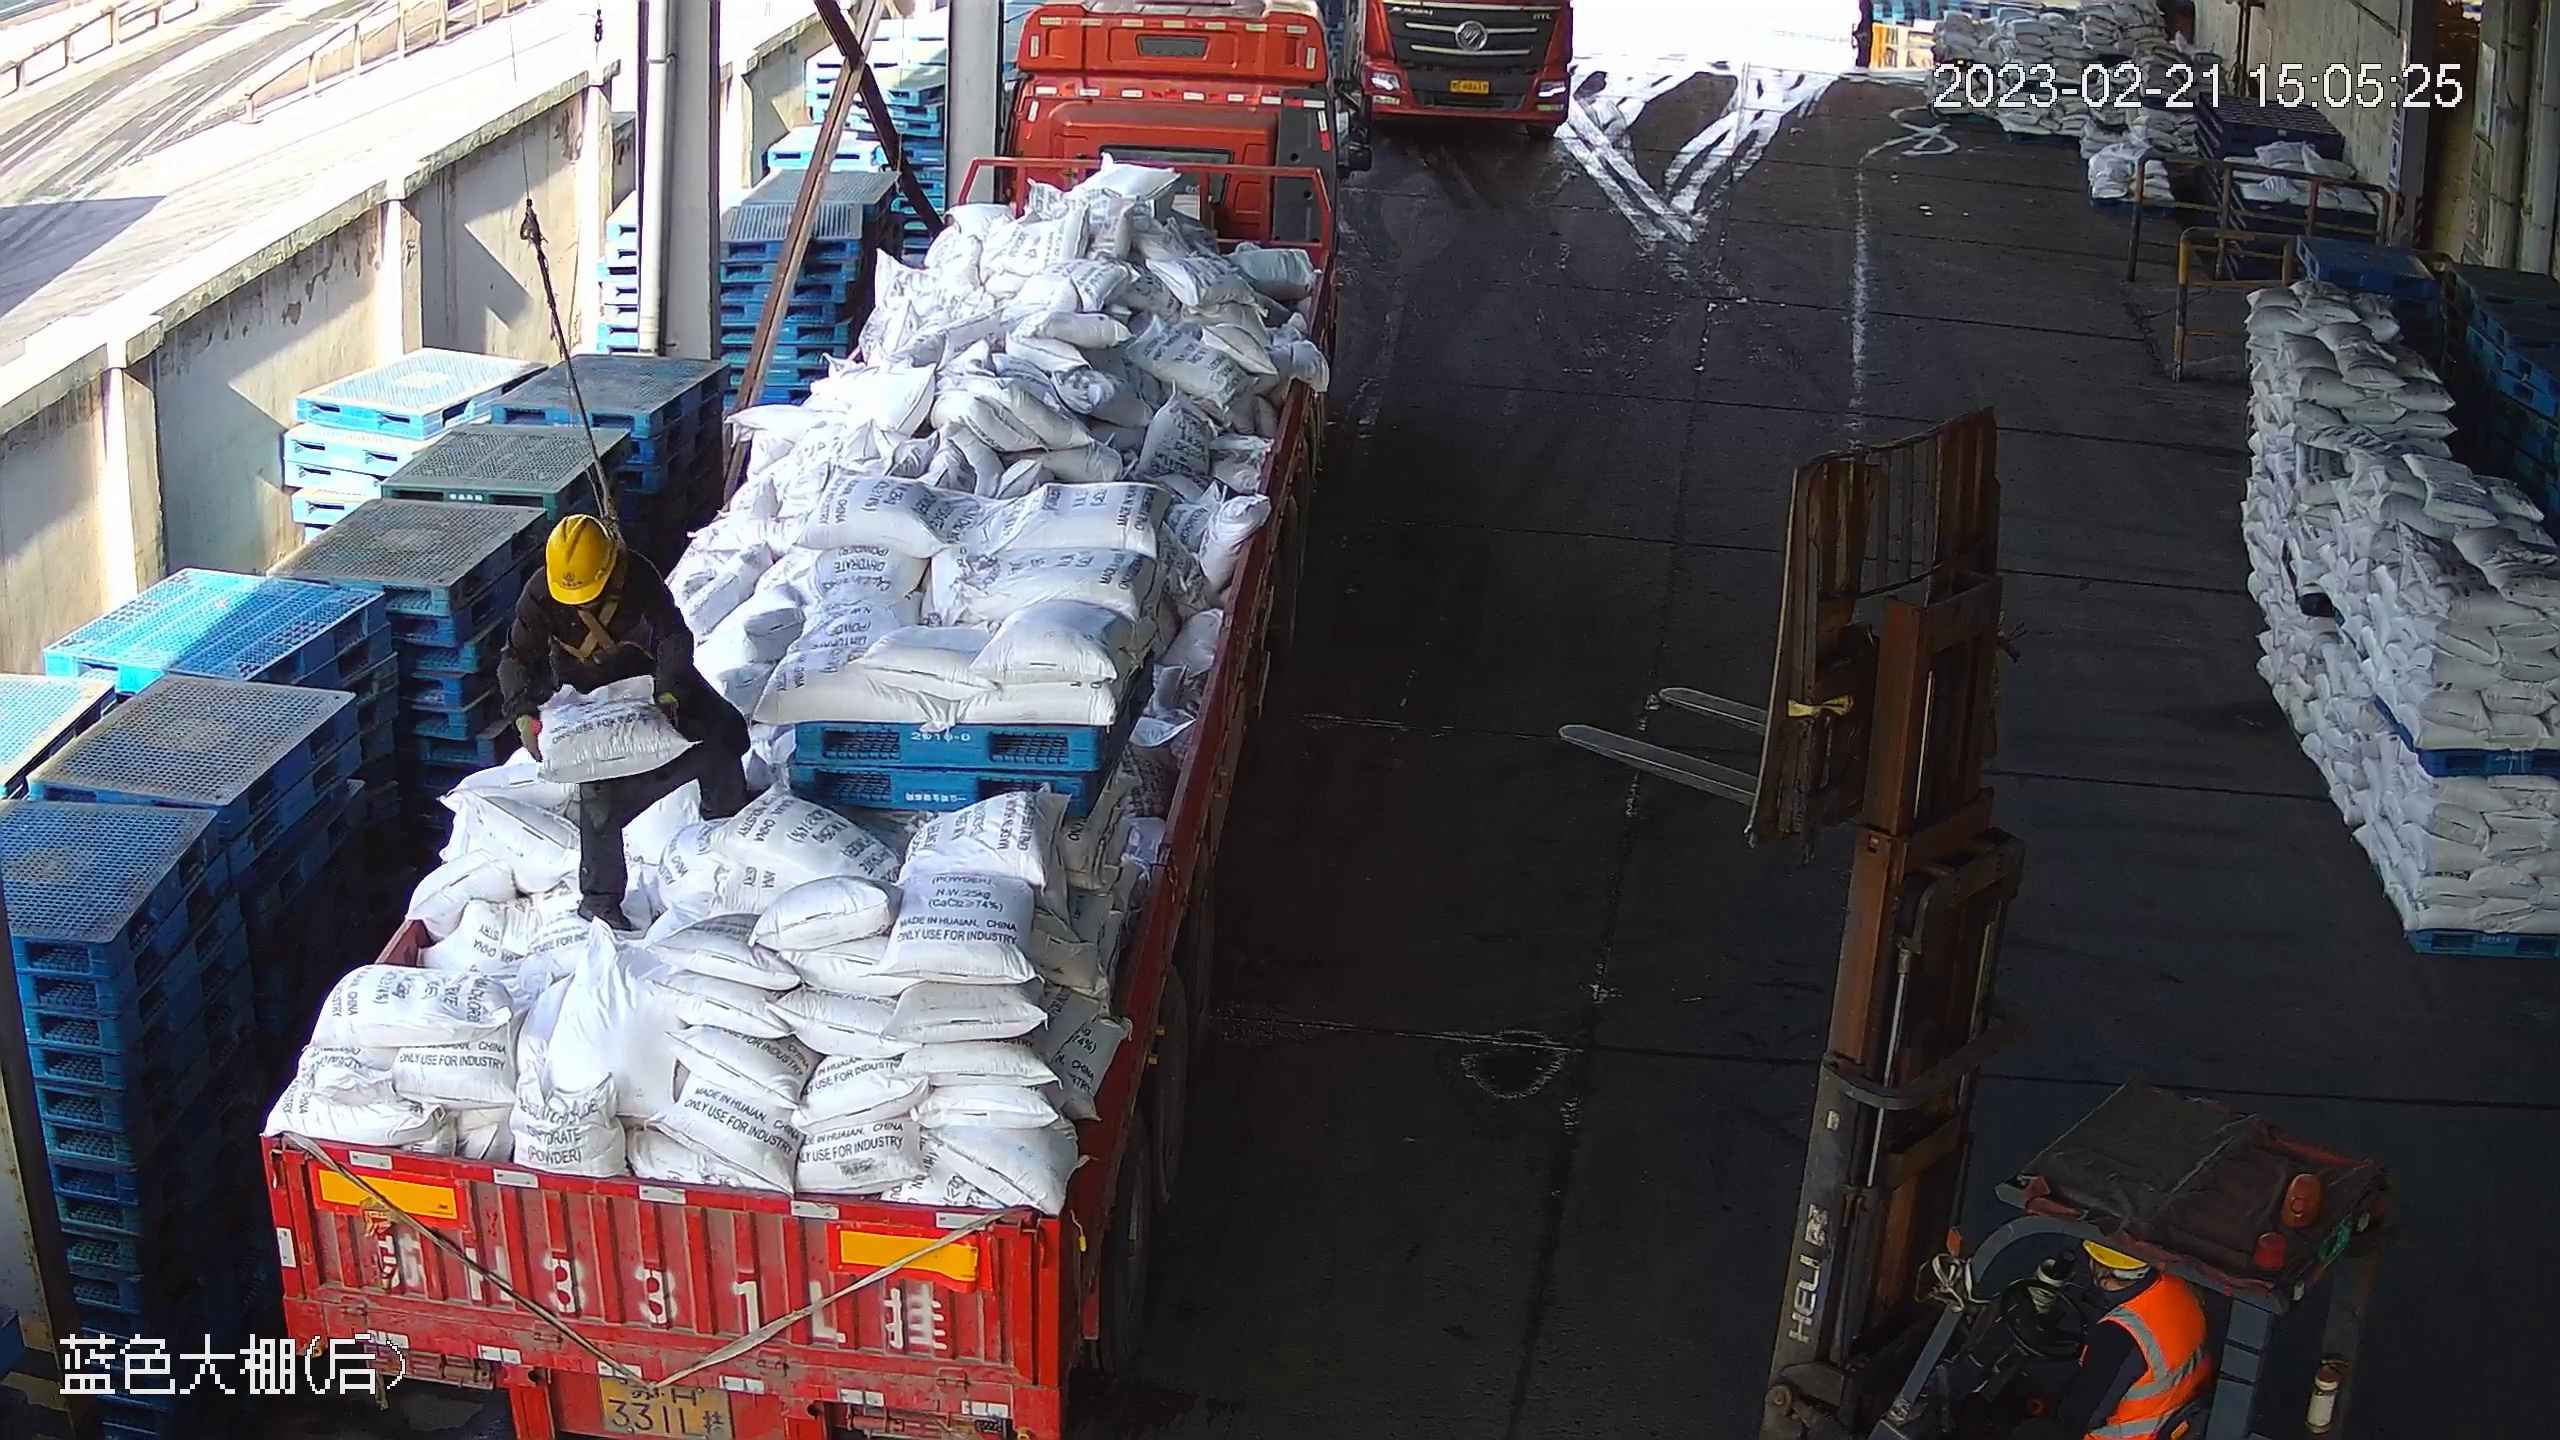belt: (566, 594, 645, 659)
head: (2062, 1235, 2218, 1439), (510, 511, 671, 649)
helmet: (545, 517, 622, 606)
people: (495, 511, 761, 940)
truck: (157, 1, 1379, 1440), (1342, 1, 1576, 145)
